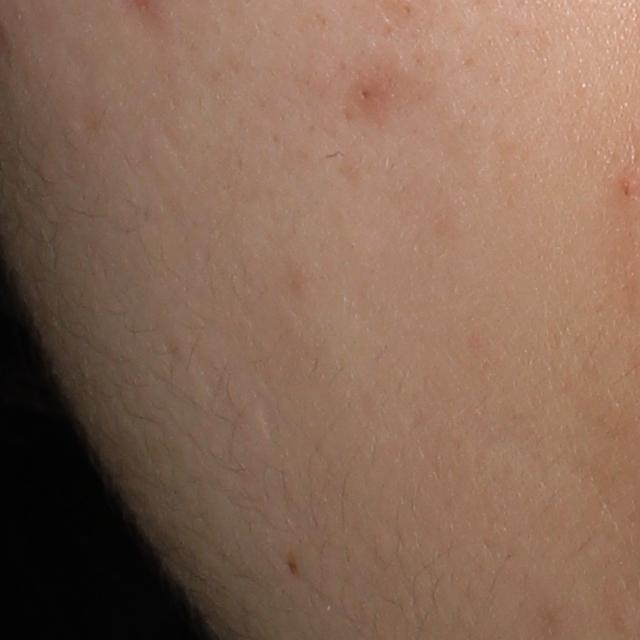nevus: (287, 554, 300, 579)
